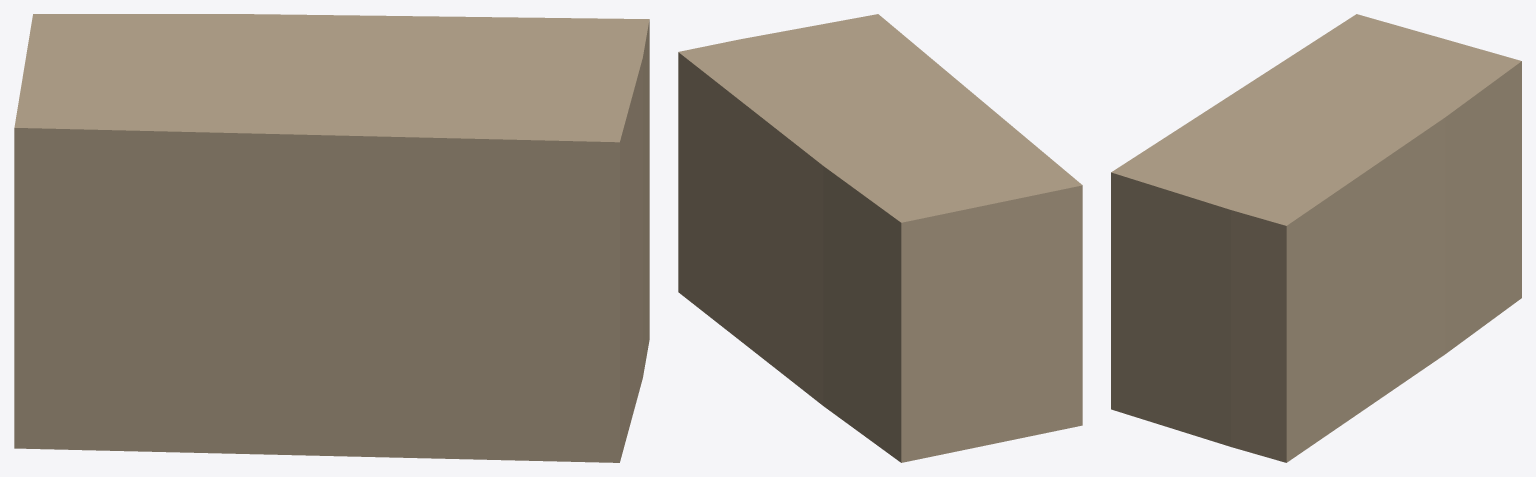
File: bld_107914651.dae
3 views of the same model, side by side, from view 1: azimuth 30°, elevation 25°; view 2: azimuth 150°, elevation 25°; view 3: azimuth 270°, elevation 25° (orthographic). The views are drawn at different scales.
Visible parts, largest first — view 1: bld_107914651; view 2: bld_107914651; view 3: bld_107914651.
Boxes of the visible parts, x1=… form: bld_107914651: x1=14, y1=14, x2=649, y2=462; bld_107914651: x1=678, y1=14, x2=1082, y2=462; bld_107914651: x1=1111, y1=14, x2=1521, y2=462.
Size of the model in its own units: 15.34 by 12.57 by 8.
